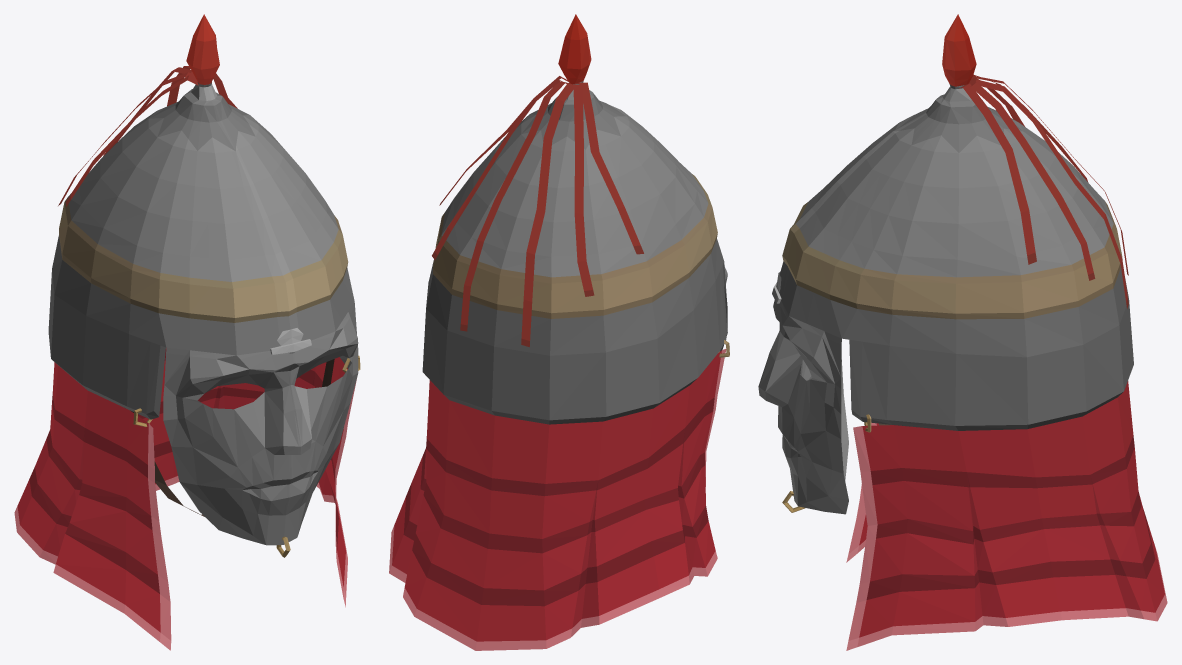
File: slavicFaceHelmet.glb
The picture shows the model from 3 angles, left to right: view 1: azimuth 30°, elevation 25°; view 2: azimuth 150°, elevation 25°; view 3: azimuth 270°, elevation 25°; orthographic projection. The views are drawn at different scales.
Visible parts, largest first — view 1: slavicFaceHelmet; view 2: slavicFaceHelmet; view 3: slavicFaceHelmet.
Boxes of the visible parts, x1=… form: slavicFaceHelmet: x1=14, y1=14, x2=360, y2=650; slavicFaceHelmet: x1=389, y1=14, x2=729, y2=650; slavicFaceHelmet: x1=758, y1=14, x2=1167, y2=650.
Size of the model in its own units: 0.3073 by 0.5942 by 0.3716.
